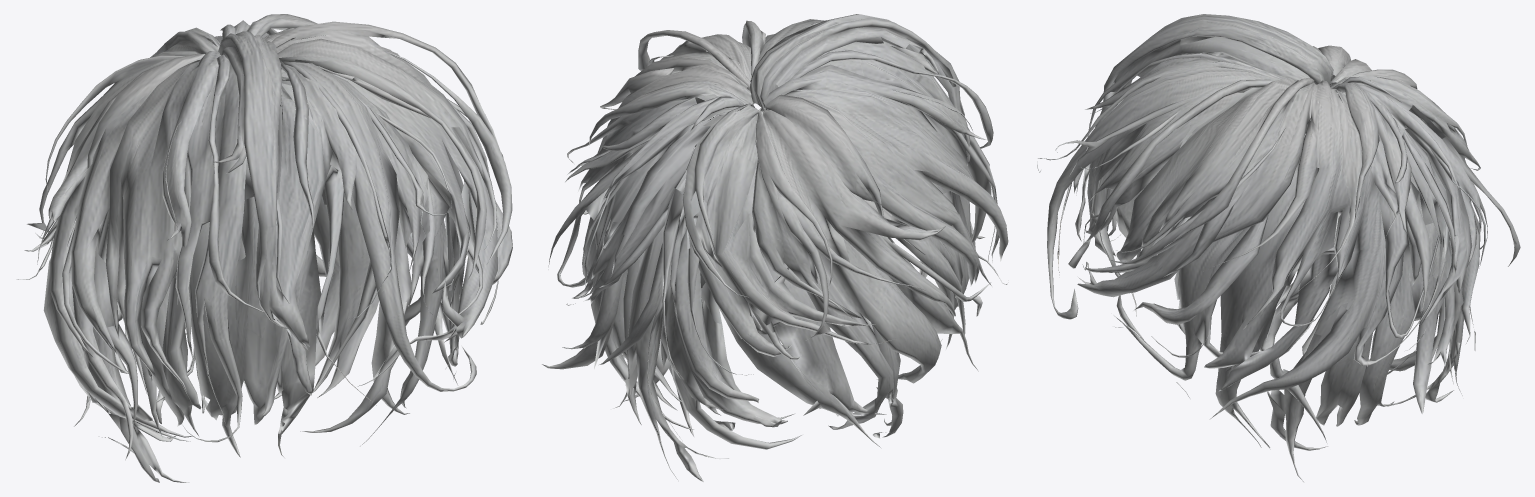
Rendered from hair-1.glb.
3 views of the same model, side by side, from view 1: azimuth 30°, elevation 25°; view 2: azimuth 150°, elevation 25°; view 3: azimuth 270°, elevation 25° (orthographic). The views are drawn at different scales.
Size of the model in its own units: 0.8208 by 0.8354 by 0.9502.
1 material, 1 textured.
